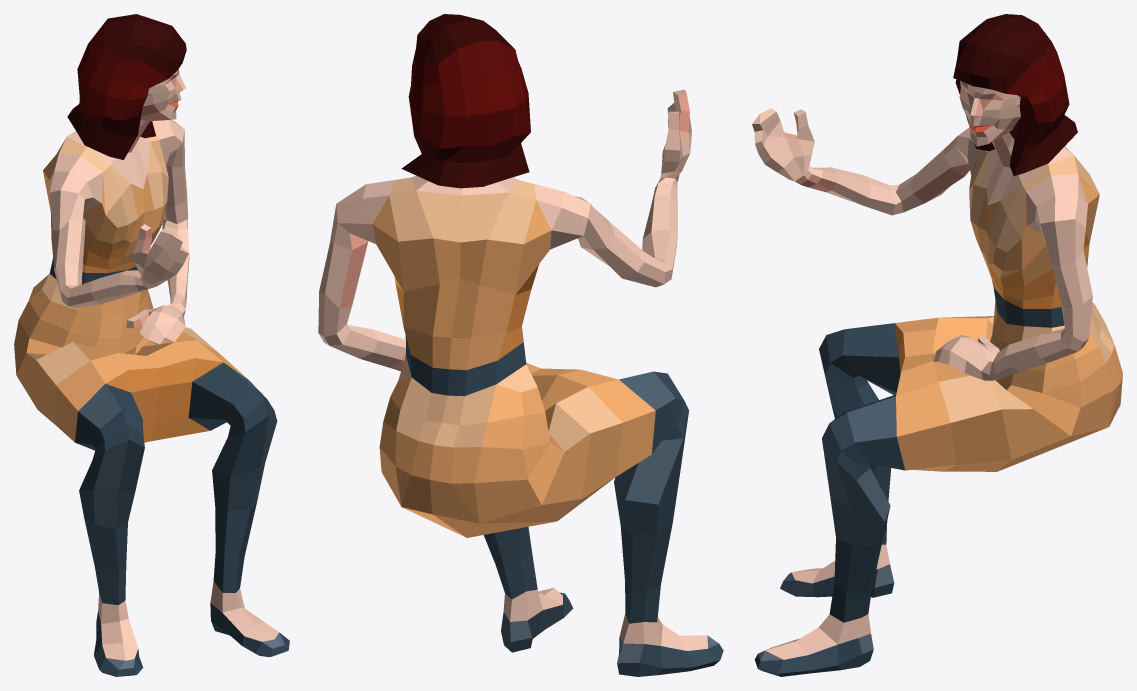
3 renders of one model, left to right at view 1: azimuth 30°, elevation 25°; view 2: azimuth 150°, elevation 25°; view 3: azimuth 270°, elevation 25°, orthographic. The views are drawn at different scales.
Parts seen in each view (by area): view 1: lpFemale_casual_B_sitting_talking_peopleColors_0; view 2: lpFemale_casual_B_sitting_talking_peopleColors_0; view 3: lpFemale_casual_B_sitting_talking_peopleColors_0.
Boxes of the visible parts, <box> form: lpFemale_casual_B_sitting_talking_peopleColors_0: <box>14,14,289,676</box>; lpFemale_casual_B_sitting_talking_peopleColors_0: <box>318,14,723,676</box>; lpFemale_casual_B_sitting_talking_peopleColors_0: <box>752,14,1122,676</box>.
Size of the model in its own units: 50.49 by 132 by 70.26.
